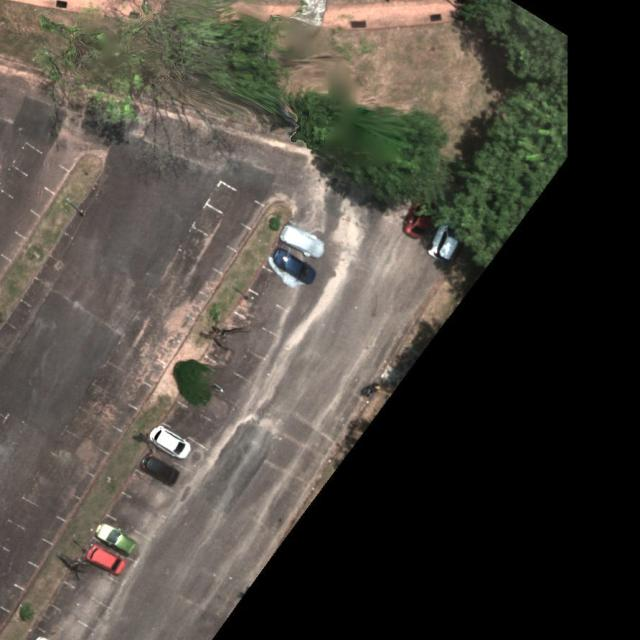Tree: (32, 0, 297, 129), (429, 81, 570, 268), (288, 88, 455, 210), (457, 0, 569, 83), (171, 358, 214, 408)
